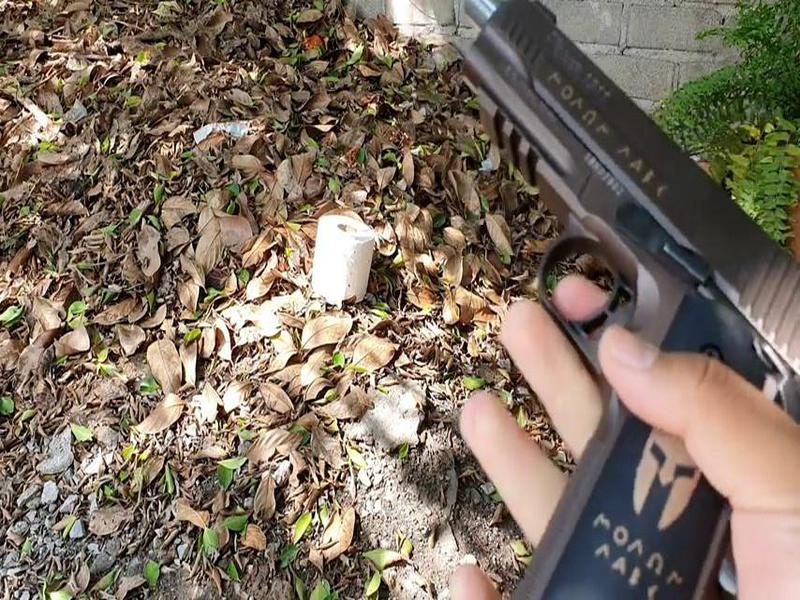Pistola: (440, 4, 800, 599)
